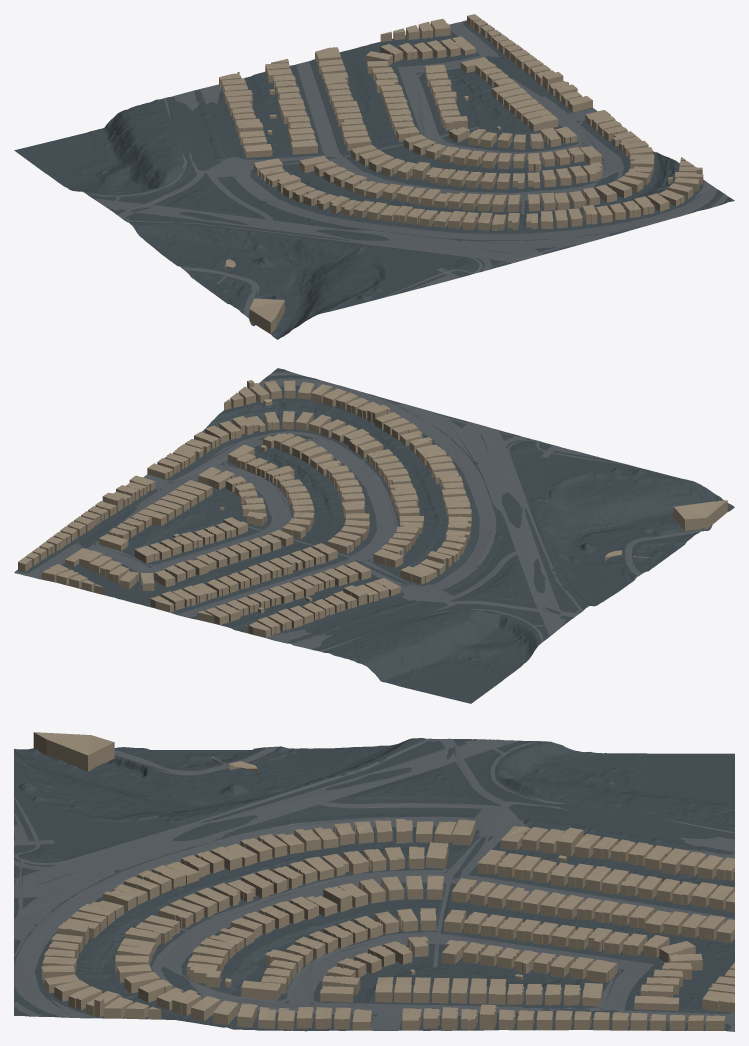
The model's file is epsg26910-1417-10875.lod0.glb.
3 views of the same model, one above another, from view 1: azimuth 30°, elevation 25°; view 2: azimuth 150°, elevation 25°; view 3: azimuth 270°, elevation 25° (orthographic). The views are drawn at different scales.
Visible parts, largest first — view 1: epsg26910-1417-10875-lod0; view 2: epsg26910-1417-10875-lod0; view 3: epsg26910-1417-10875-lod0.
Part boxes in pixels (left/top/right/bottom): epsg26910-1417-10875-lod0: left=14, top=14, right=734, bottom=339; epsg26910-1417-10875-lod0: left=14, top=368, right=734, bottom=703; epsg26910-1417-10875-lod0: left=14, top=732, right=734, bottom=1031.
Bounding box in the file's own units: 384 × 34.03 × 384.
